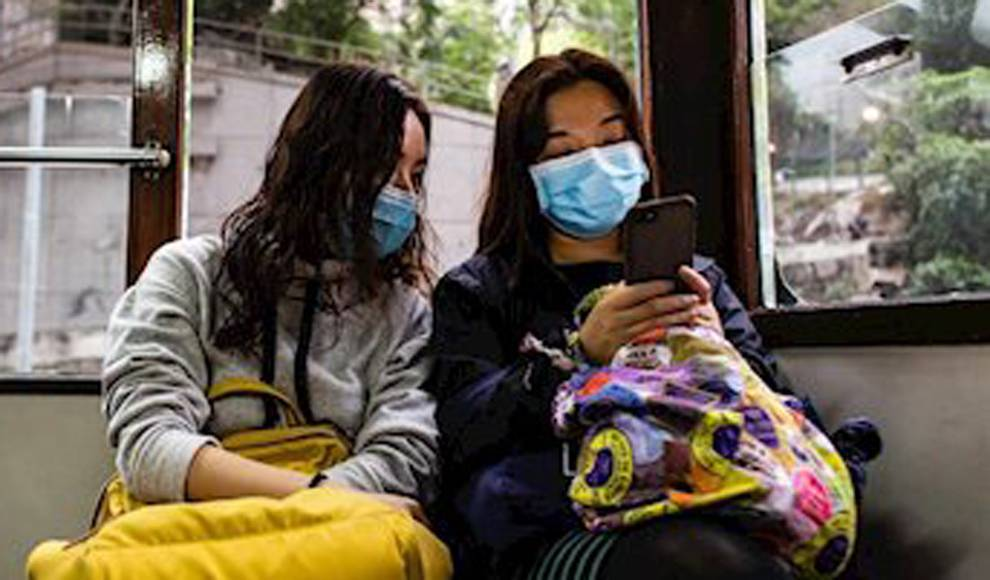with_mask: (521, 85, 667, 237), (323, 96, 444, 273)
